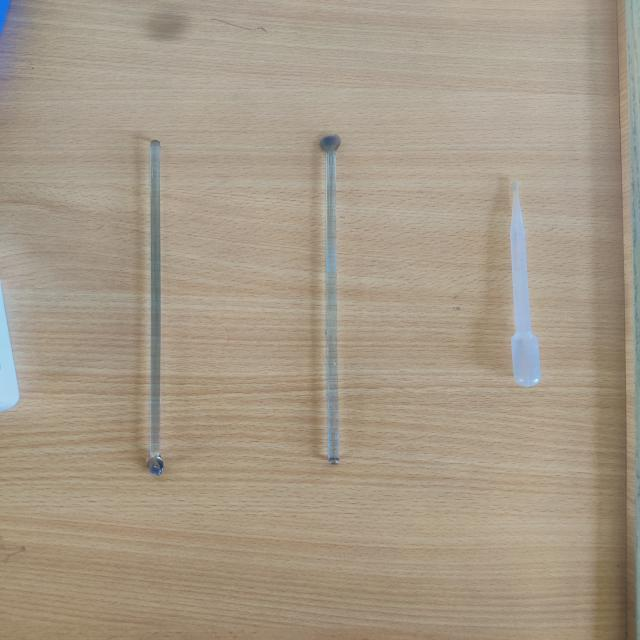Glass_Rod: (265, 107, 393, 486), (107, 117, 195, 494)
Pipette: (461, 159, 579, 412)
